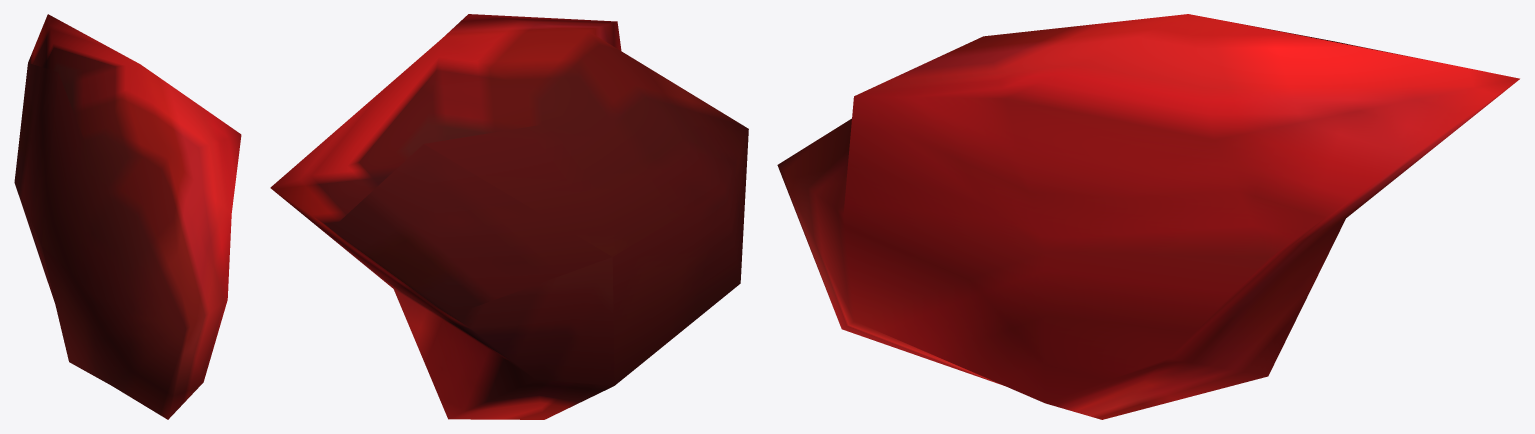
Rendered from Gib_Giblet4(Clone).fbx.
The picture shows the model from 3 angles, left to right: view 1: azimuth 30°, elevation 25°; view 2: azimuth 150°, elevation 25°; view 3: azimuth 270°, elevation 25°; orthographic projection. The views are drawn at different scales.
Visible parts, largest first — view 1: Gib_Giblet4(Clone); view 2: Gib_Giblet4(Clone); view 3: Gib_Giblet4(Clone).
Part boxes in pixels (x1=…): Gib_Giblet4(Clone): x1=14, y1=14, x2=241, y2=419; Gib_Giblet4(Clone): x1=270, y1=14, x2=748, y2=419; Gib_Giblet4(Clone): x1=777, y1=14, x2=1519, y2=419.
Size of the model in its own units: 0.1708 by 0.283 by 0.4324.
Materials: 1 (1 with a texture image).
